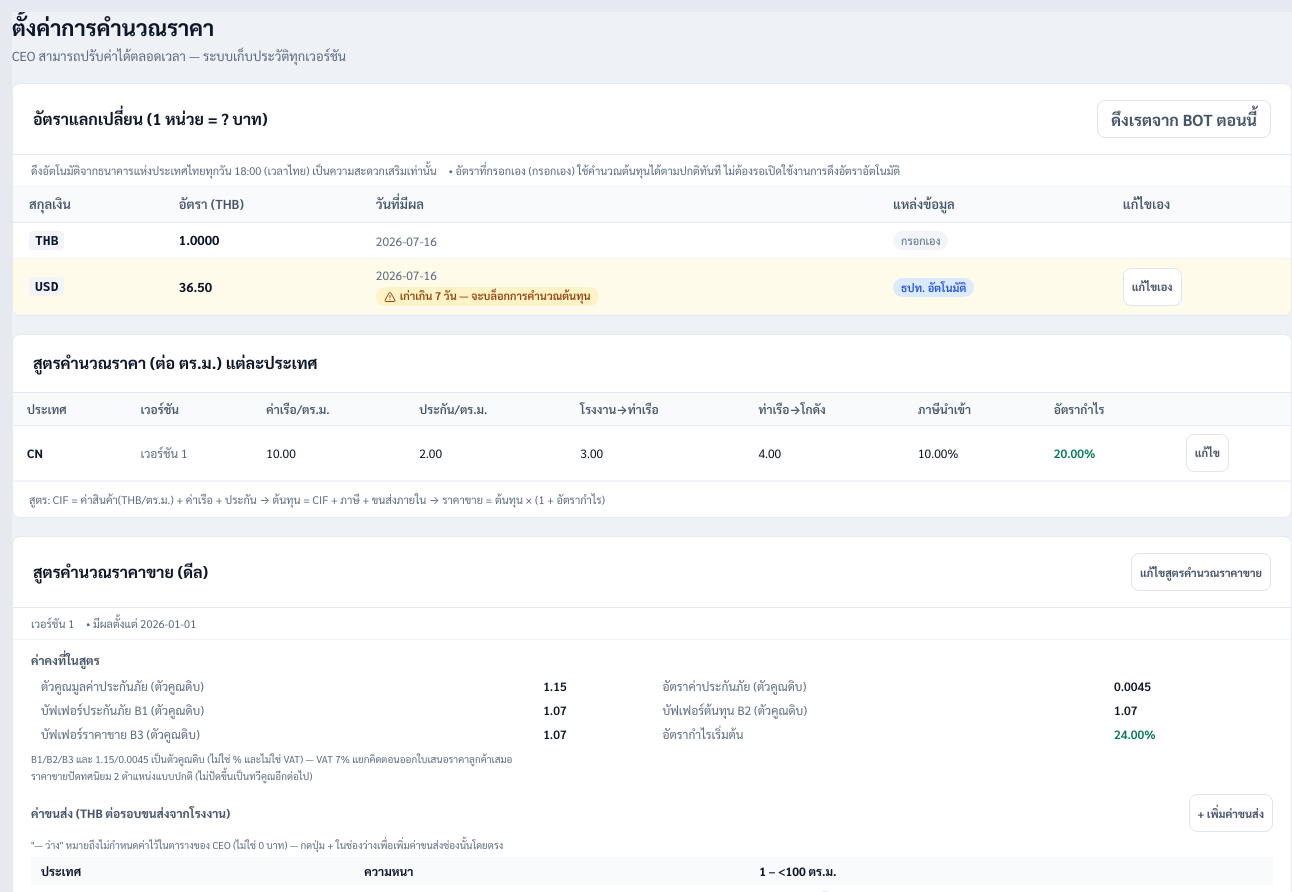
Test: CeoSettingsPage › BOT FX fetch-now button (review fix) › renders a 429 as a cooldown message, not an error toast, and disables the fetch button
Expected: the text "USD" is shown, [29, 277, 64, 296]
Step 1. Click the button with test id "fx-fetch-now" → (1184,119), box [1097, 100, 1271, 138]
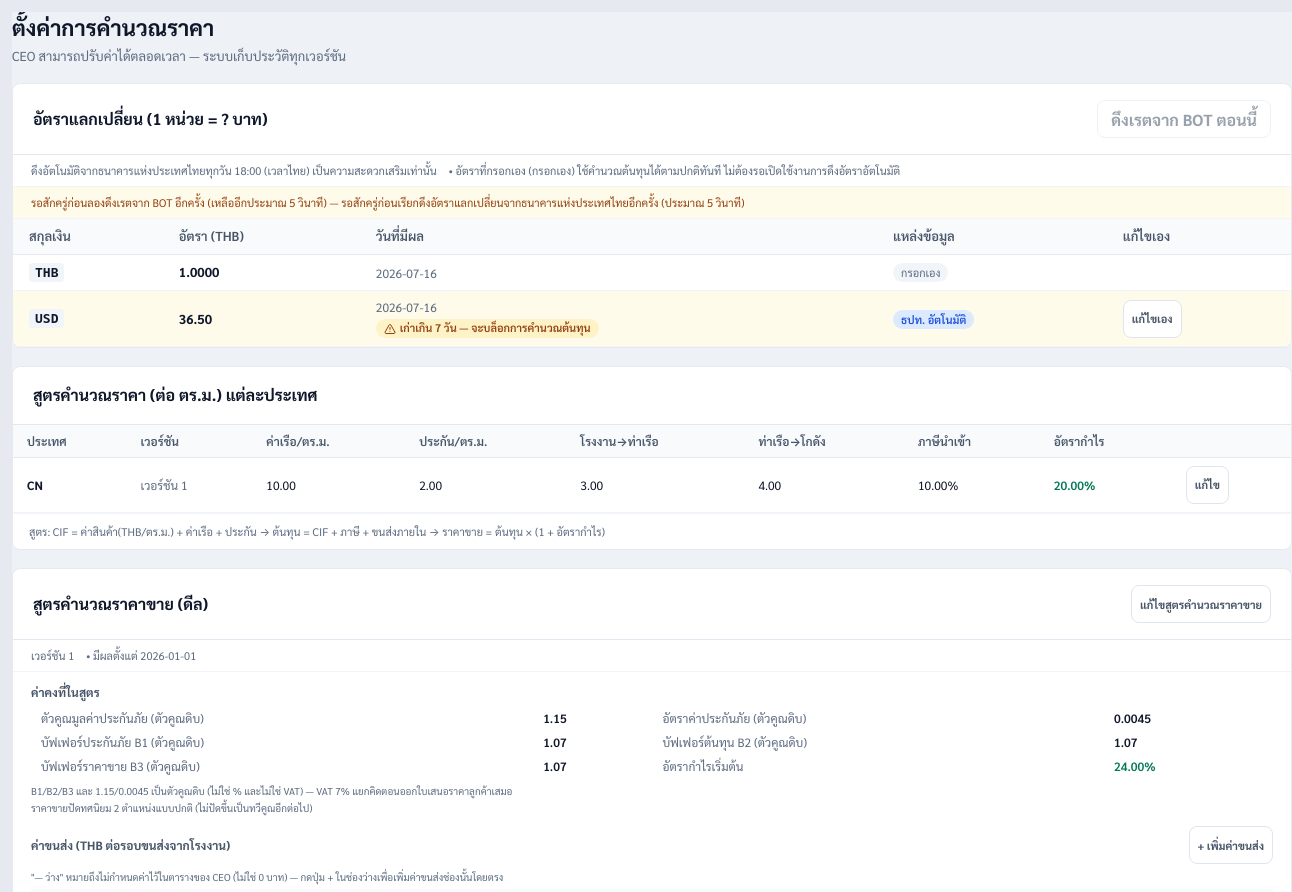
Expected: the text "เหลืออีกประมาณ 5 วินาที" is shown, [13, 187, 1291, 219]
Expected: the button with test id "fx-fetch-now" is disabled, [1097, 100, 1271, 138]
